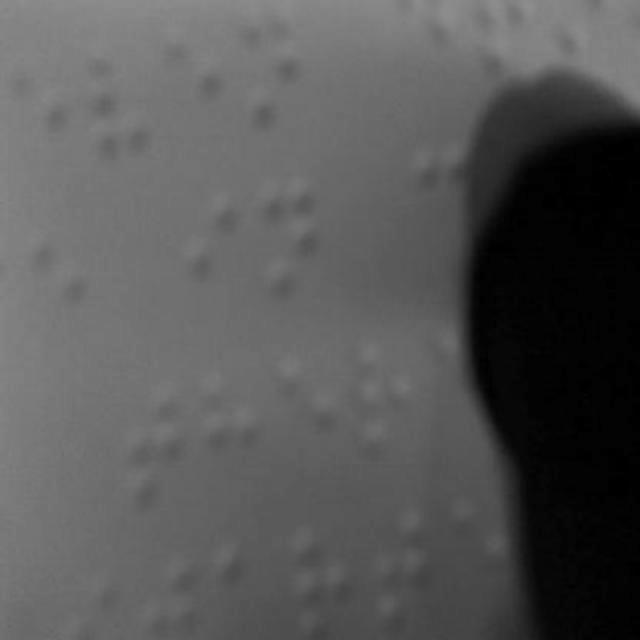braiile: (192, 363, 264, 501), (261, 173, 327, 323), (233, 0, 299, 146), (178, 185, 246, 325), (351, 330, 421, 466), (270, 348, 340, 482), (293, 512, 363, 640), (122, 378, 188, 512), (375, 509, 441, 633), (160, 28, 222, 160), (79, 48, 149, 162), (2, 61, 66, 181)
